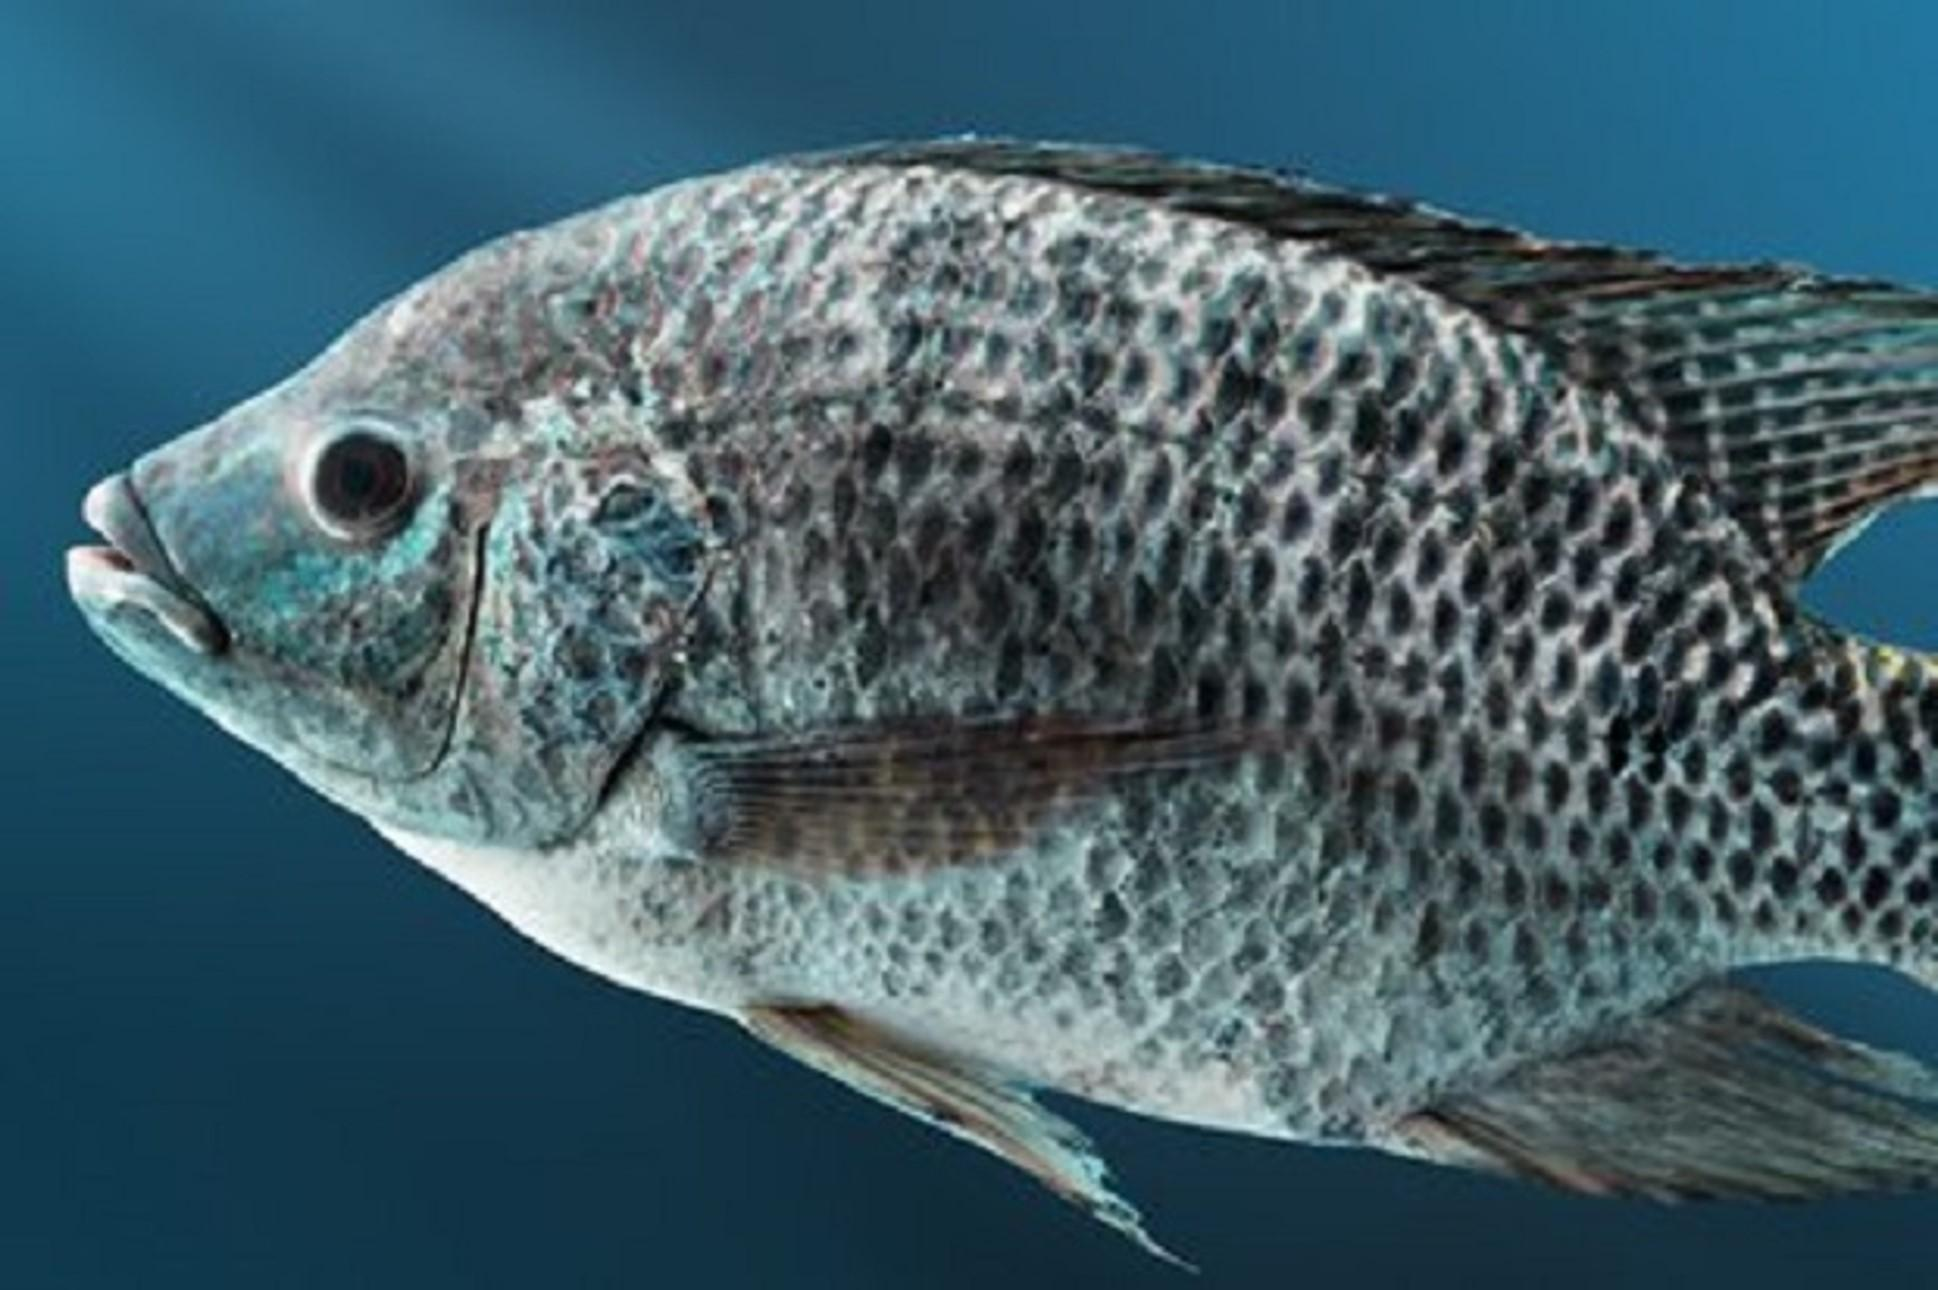Tilapia: (55, 124, 1938, 1270)
